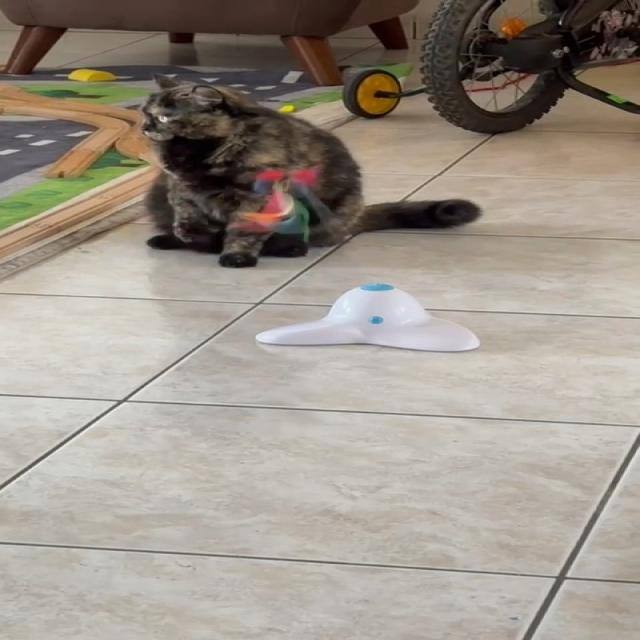authorized: (135, 72, 481, 268)
